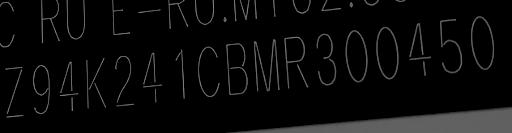letter: (433, 12, 465, 75), (371, 22, 405, 81), (468, 11, 500, 70), (339, 28, 369, 85), (282, 33, 310, 92), (252, 36, 280, 95), (405, 18, 431, 77), (313, 30, 339, 89), (223, 39, 249, 96), (196, 41, 222, 98), (168, 46, 194, 101), (111, 52, 135, 109), (84, 54, 108, 111), (56, 58, 80, 113), (140, 49, 162, 106), (3, 64, 25, 119), (30, 62, 50, 117)
